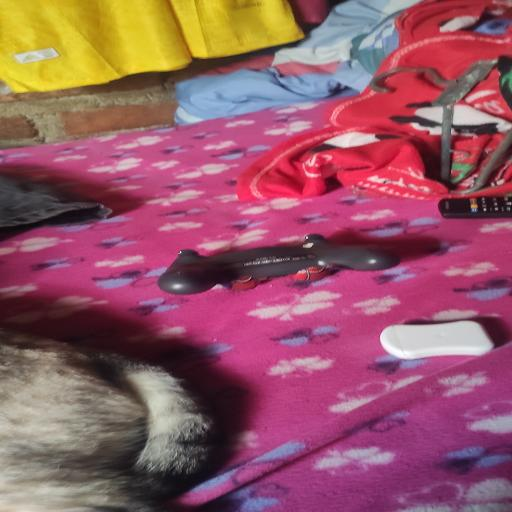ControlPlay4: (158, 234, 399, 295)
